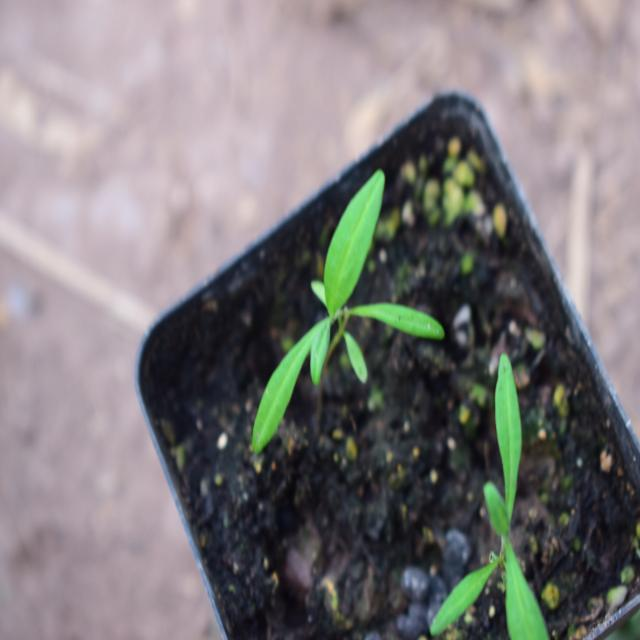white_smart_weed: (245, 155, 435, 440)
